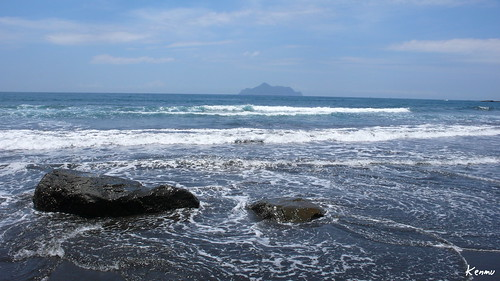turtleIslandLeft: (242, 80, 302, 98)
